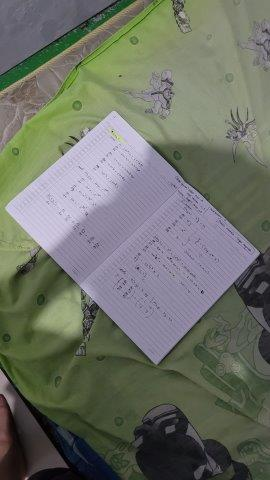kertas: (5, 111, 260, 365)
